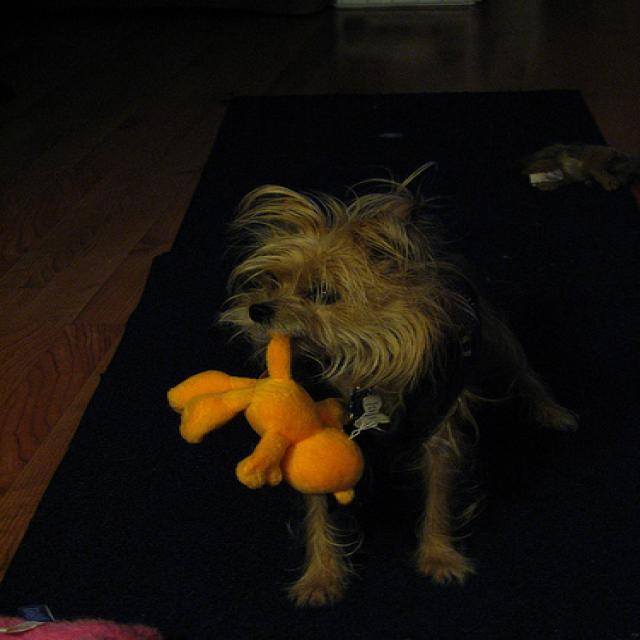dog: (208, 205, 640, 637)
